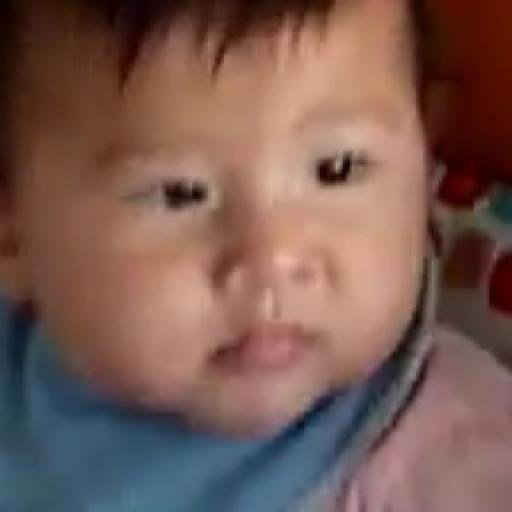Autism: (36, 6, 431, 430)
